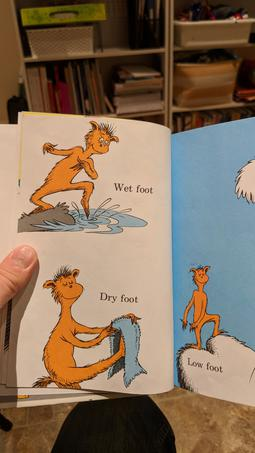text block: (92, 280, 141, 306), (110, 176, 160, 199), (183, 351, 227, 374)
